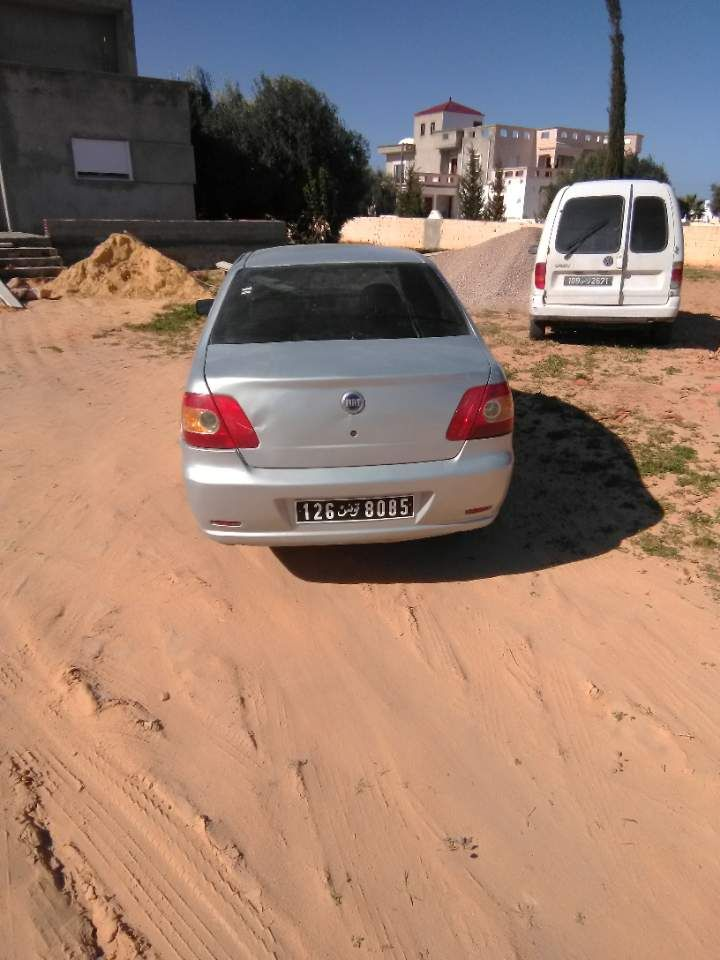LP: (295, 495, 415, 524)
